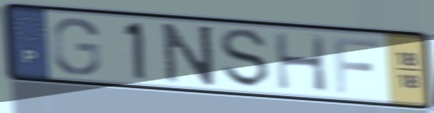1: (120, 20, 149, 82)
F: (331, 35, 383, 96)
G: (50, 16, 103, 77)
H: (272, 30, 331, 94)
N: (159, 21, 219, 88)
S: (218, 27, 273, 91)
